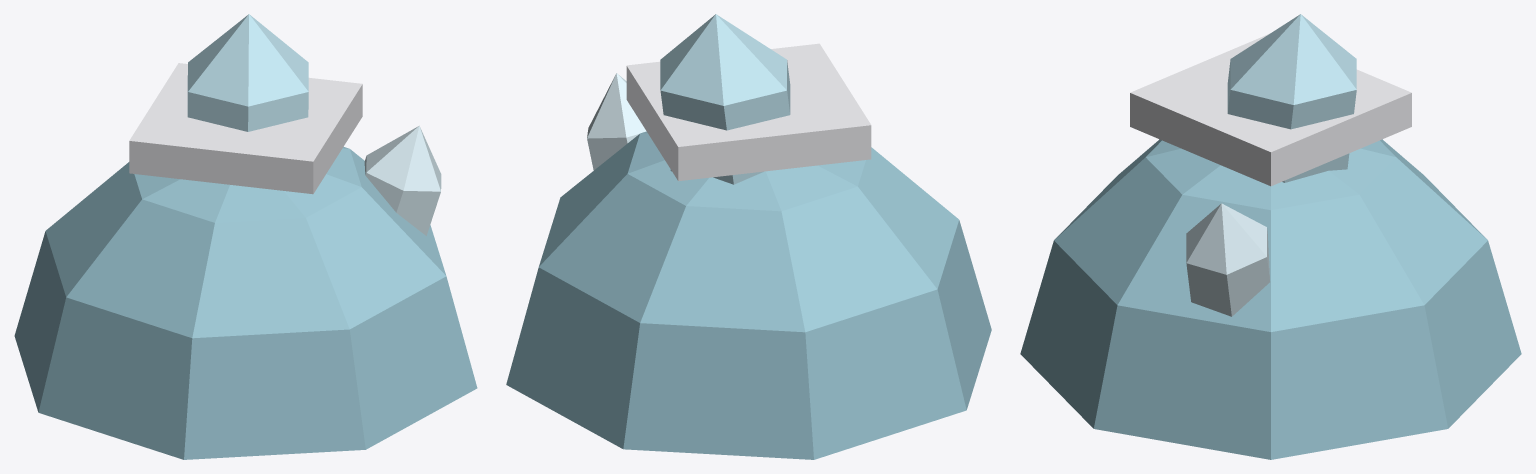
The model's file is cryst_res_item_flat.glb.
The picture shows the model from 3 angles, left to right: view 1: azimuth 30°, elevation 25°; view 2: azimuth 150°, elevation 25°; view 3: azimuth 270°, elevation 25°; orthographic projection. The views are drawn at different scales.
Parts seen in each view (by area): view 1: IceChrBase, ChromeBand, IceChrCrystal, SmallIceChr; view 2: IceChrBase, ChromeBand, IceChrCrystal, SmallIceChr; view 3: IceChrBase, ChromeBand, IceChrCrystal, SmallIceChr.
Boxes of the visible parts, bbox=[...] form: IceChrBase: bbox=[14, 146, 477, 459]; ChromeBand: bbox=[129, 63, 362, 194]; IceChrCrystal: bbox=[187, 14, 308, 131]; SmallIceChr: bbox=[364, 125, 441, 235]; IceChrBase: bbox=[506, 131, 991, 459]; ChromeBand: bbox=[626, 43, 871, 181]; IceChrCrystal: bbox=[660, 14, 790, 184]; SmallIceChr: bbox=[587, 73, 646, 170]; IceChrBase: bbox=[1020, 139, 1521, 459]; ChromeBand: bbox=[1130, 34, 1411, 186]; IceChrCrystal: bbox=[1227, 14, 1356, 182]; SmallIceChr: bbox=[1186, 203, 1270, 316].
Bounding box in the file's own units: 0.04 × 0.0307 × 0.04.
